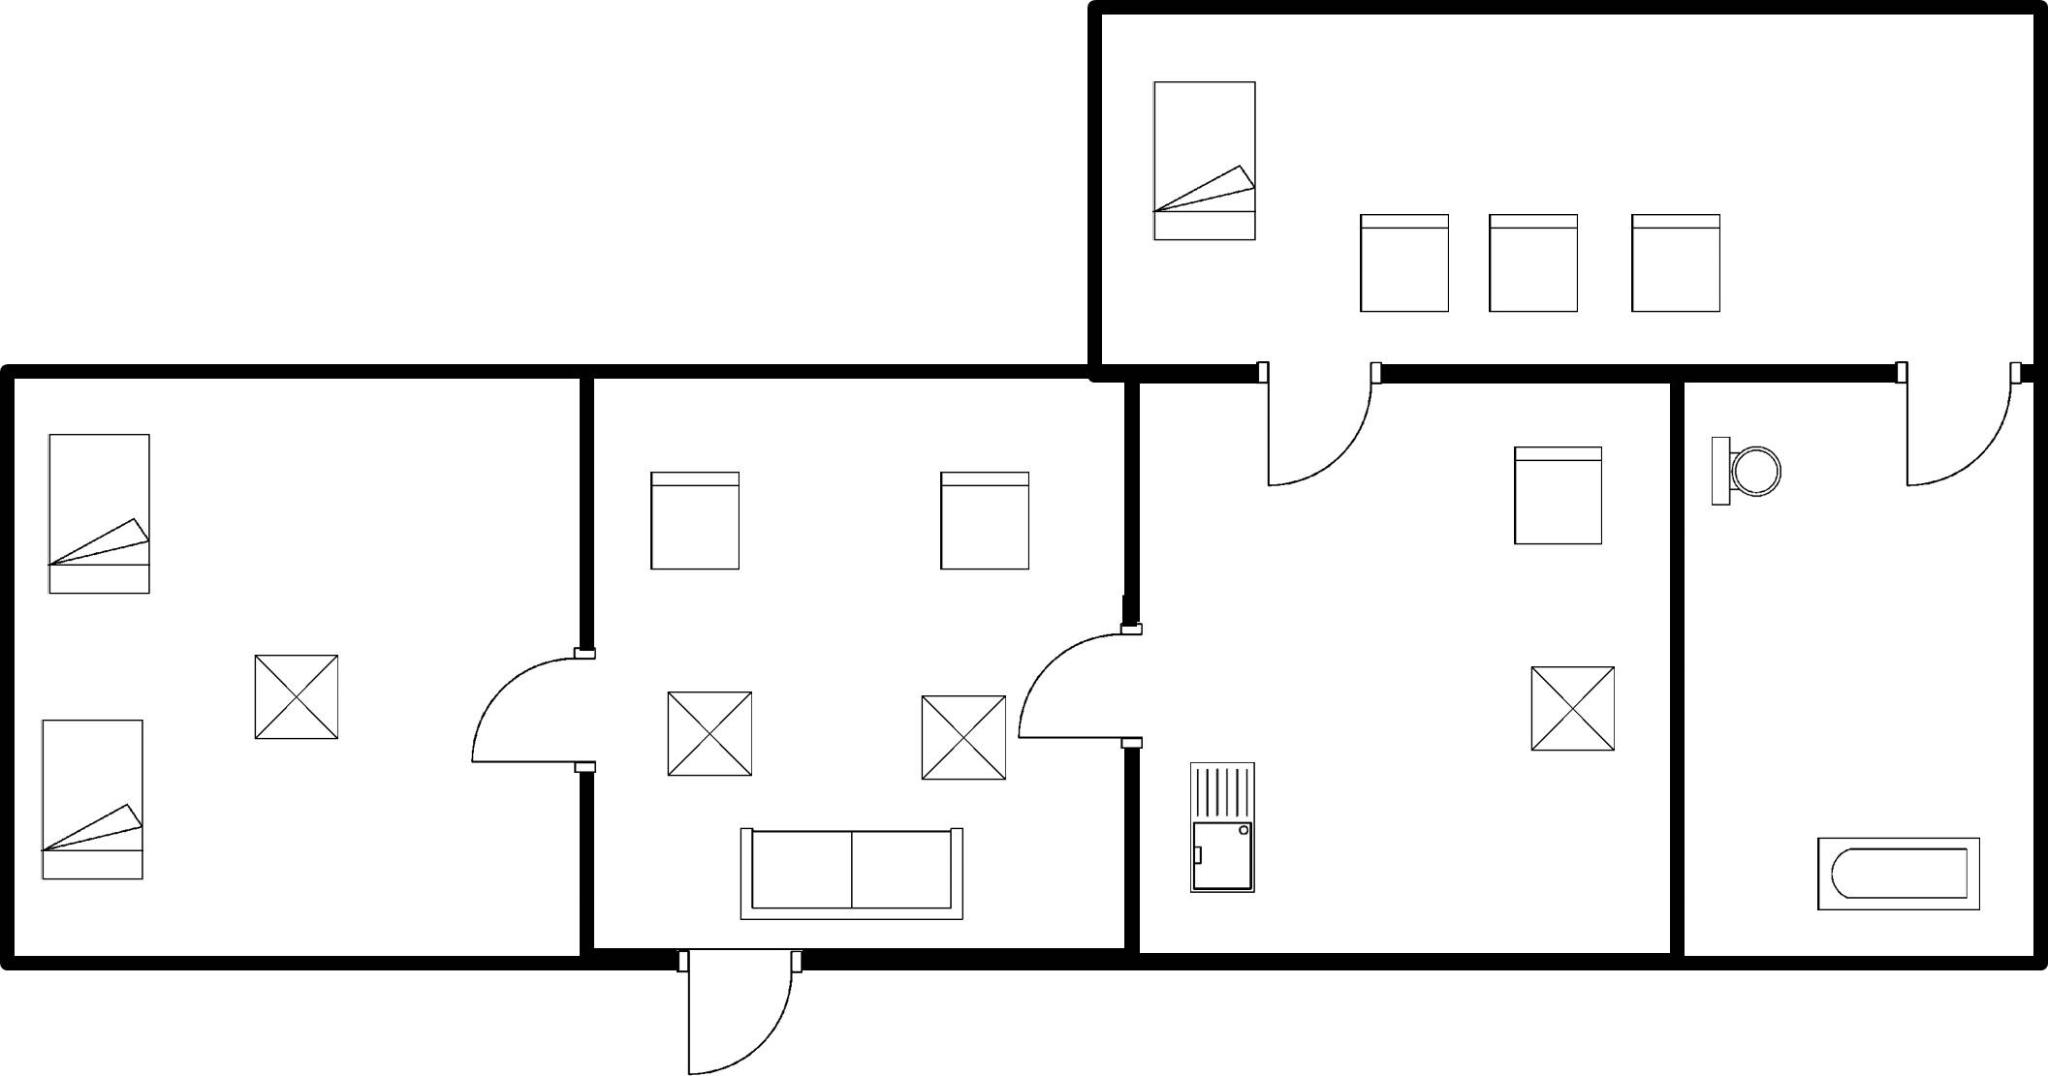bed: (1143, 72, 1271, 249), (41, 424, 160, 608), (31, 716, 153, 890)
sink: (1178, 756, 1266, 901)
sofa: (727, 817, 975, 931)
toilet: (1697, 424, 1795, 514)
tub: (1806, 825, 1992, 923)
